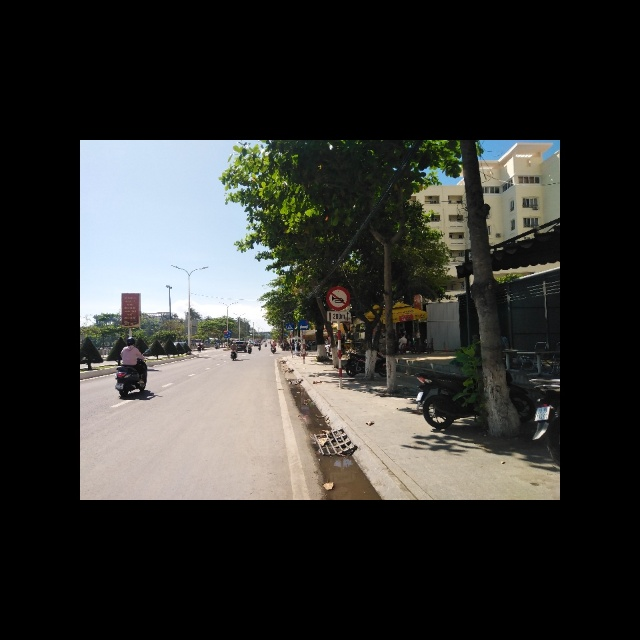Bệnh viện: (298, 319, 310, 331)
Cấm bấm còi: (327, 286, 350, 310)
Đường dành cho người đi bộ: (286, 323, 294, 330)
